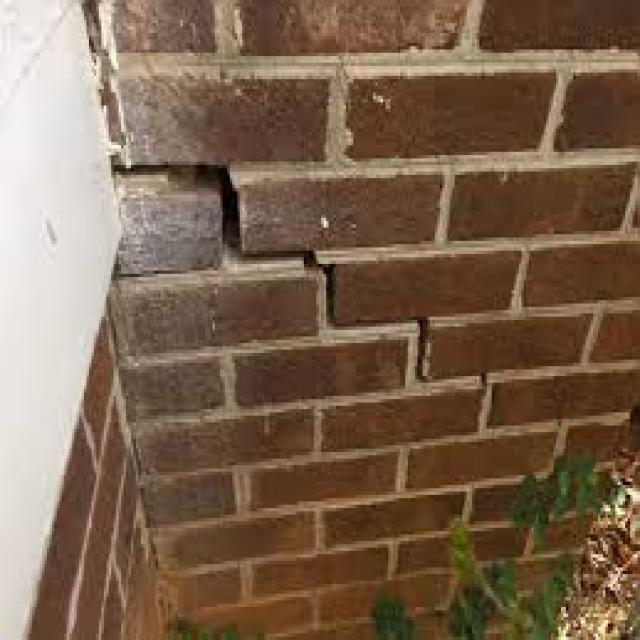Crack: (109, 148, 492, 392)
